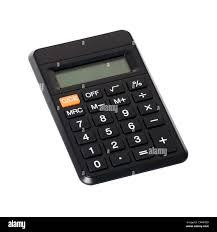Calculator: (27, 21, 193, 194)
